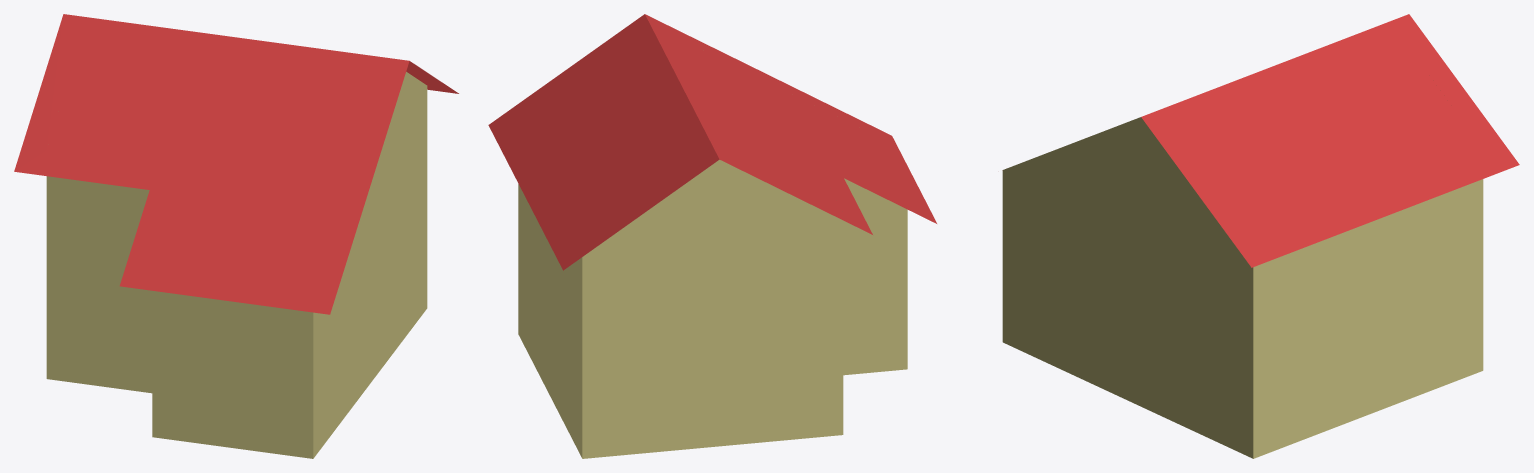
3 views of the same model, side by side, from view 1: azimuth 30°, elevation 25°; view 2: azimuth 150°, elevation 25°; view 3: azimuth 270°, elevation 25° (orthographic). The views are drawn at different scales.
Size of the model in its own units: 14.05 by 16.05 by 9.78.
